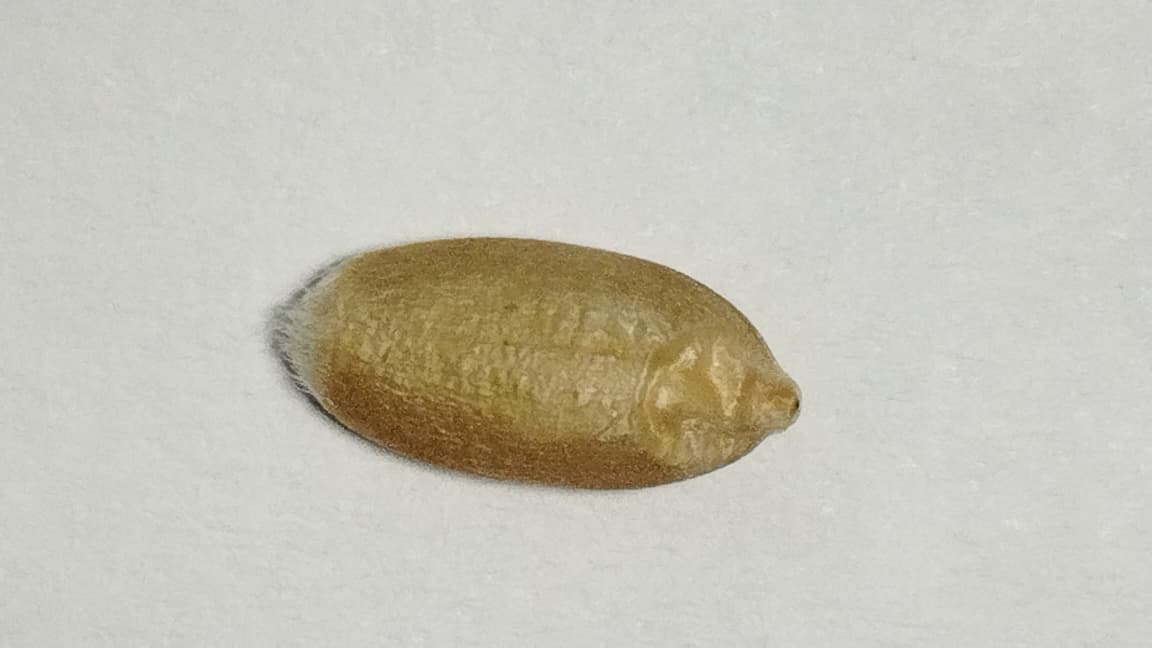healthy: (281, 237, 799, 489)
